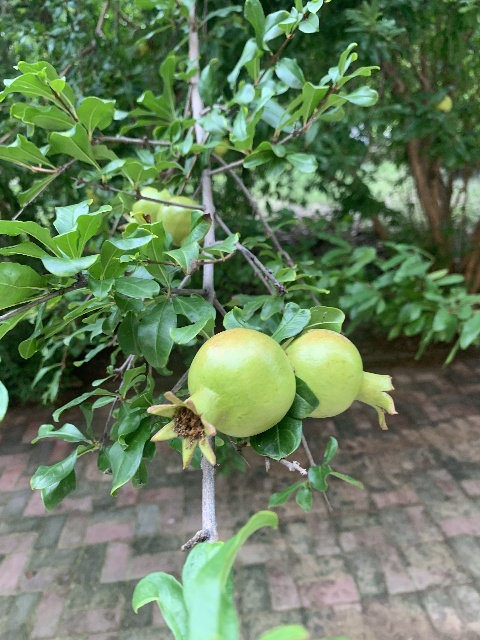mid-growth: (146, 327, 296, 470), (286, 329, 398, 430), (156, 196, 204, 248), (116, 186, 170, 230)
